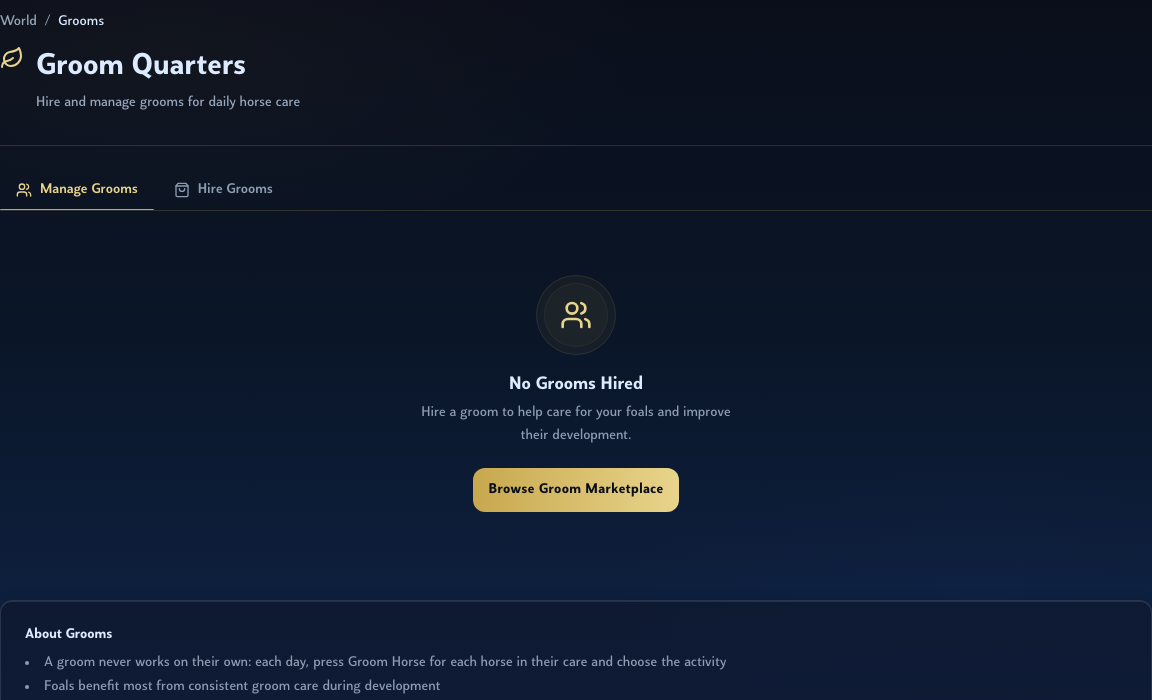
GroomsPage — manage/hire tabs + cross-tab jump (Equoria-o5hub.30) › the empty dashboard "Browse Groom Marketplace" button jumps to the Hire tab (onBrowseMarketplace)
The width and height of the screenshot is (1152, 700).
Empty state surfaces the "No Grooms Hired" CTA.
What coordinates should you click on to do the following:
click the button "Browse Groom Marketplace"
I would click on:
 (576, 490)
Its box is [472,468,680,512].
(page scrolled)
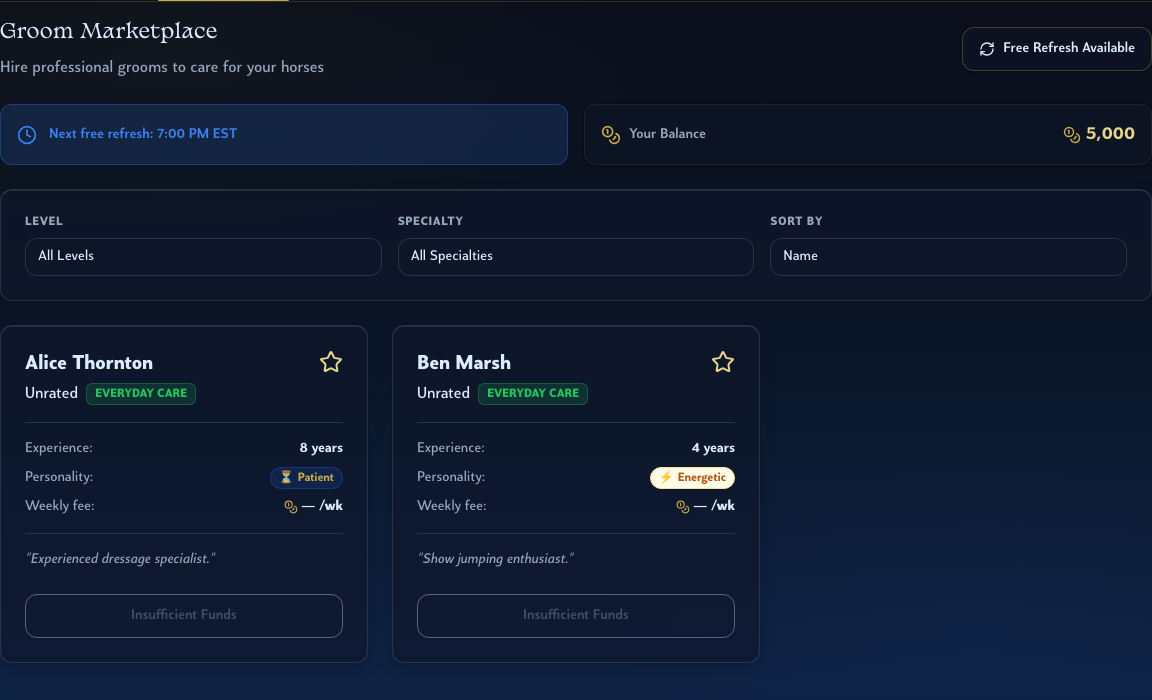
Expected: the element with test id "groom-list" is shown
